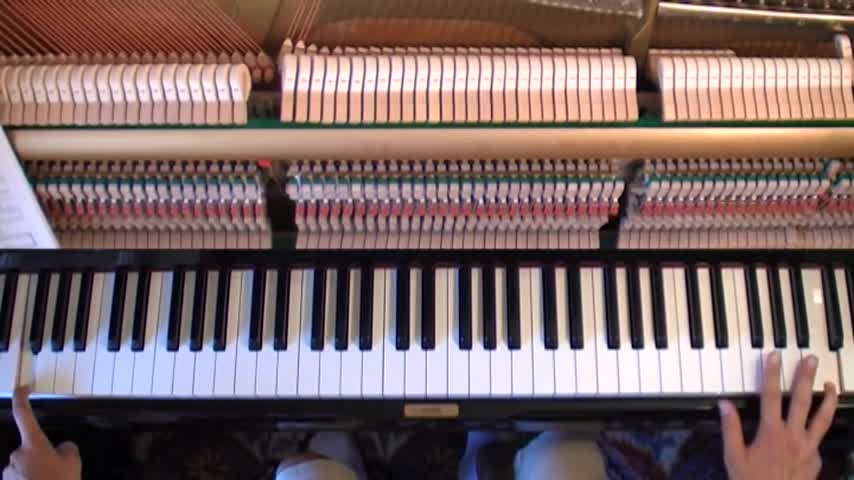left: (2, 384, 88, 480)
right: (713, 346, 835, 480)
